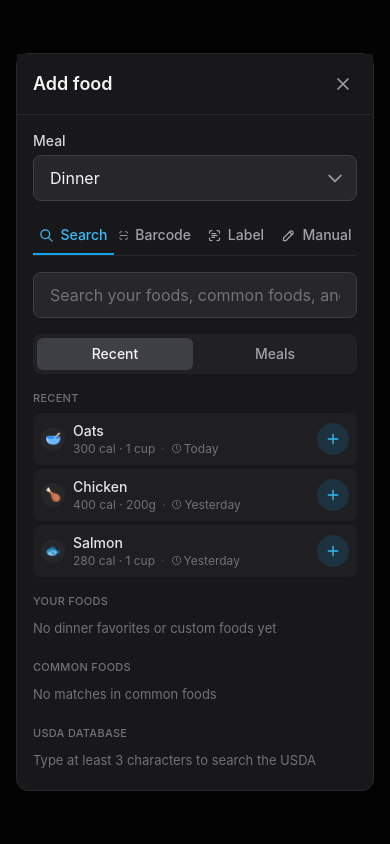
Test case: Recent view › tapping a recent row body opens the shared serving editor
Click the text "Salmon" at {"x": 98, "y": 542}, box [73,534,123,550]
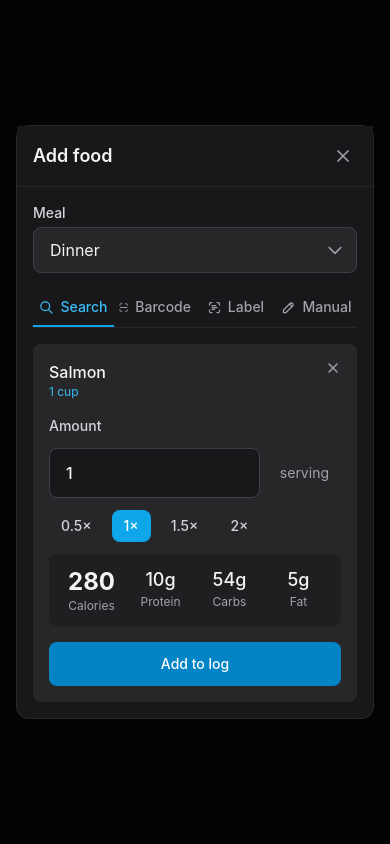
Expected: the element with test id "add-food-detail" is shown, [33,344,357,702]
Expected: the number field with test id "add-food-amount" is shown, [49,448,260,498]
